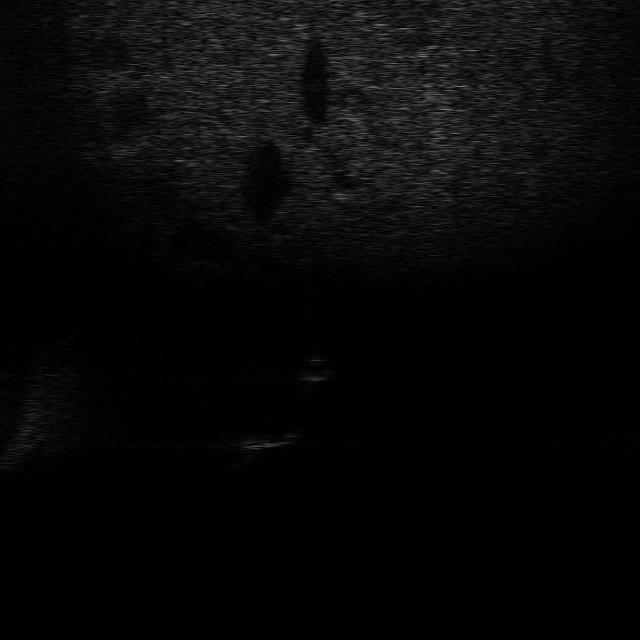ball: (286, 353, 342, 385)
square cage: (226, 420, 302, 453)
